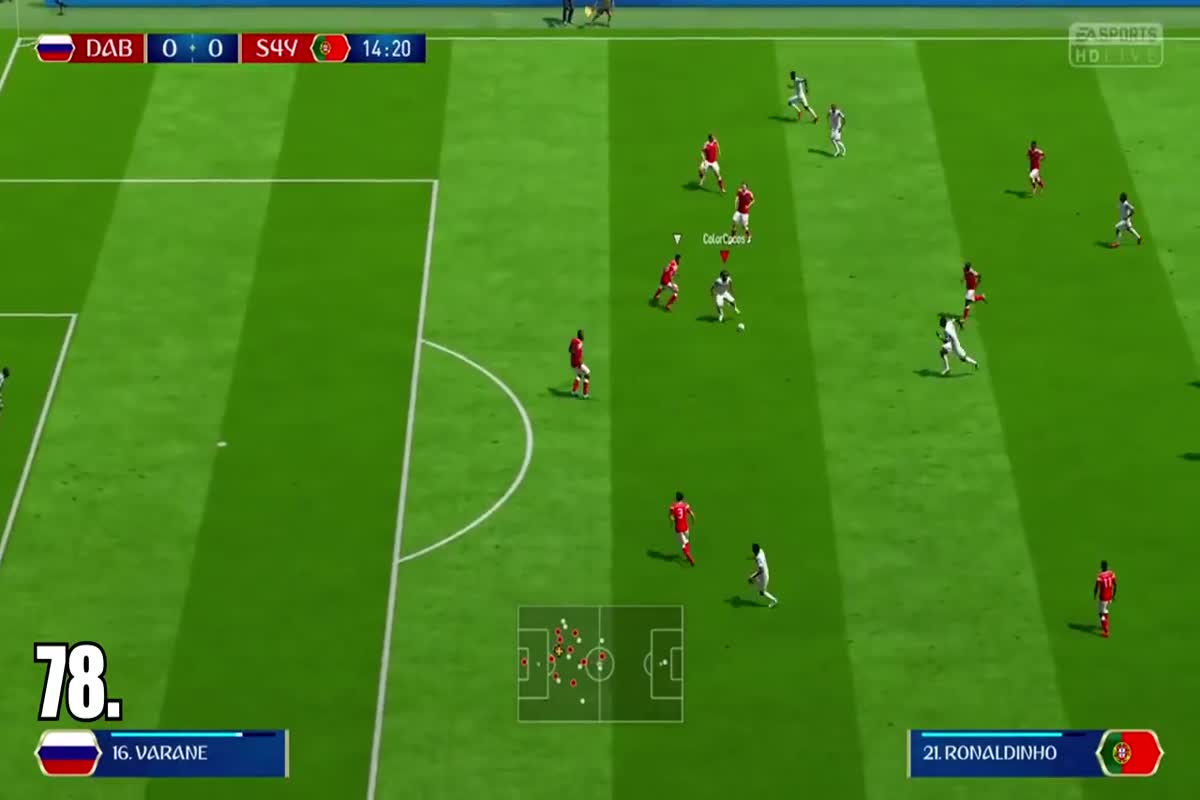ball: (731, 318, 754, 339)
